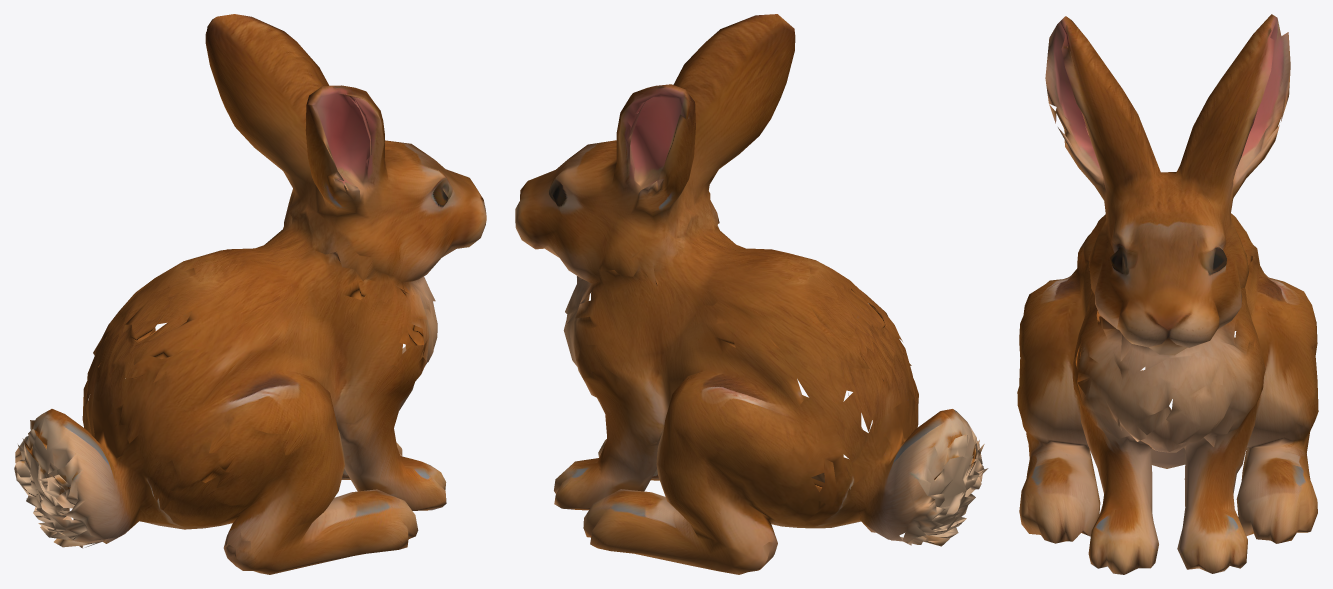
Rendered from Coelho.glb.
3 renders of one model, left to right at view 1: azimuth 30°, elevation 25°; view 2: azimuth 150°, elevation 25°; view 3: azimuth 270°, elevation 25°, orthographic. The views are drawn at different scales.
Parts seen in each view (by area): view 1: tripo_node_be37c74e-84cb-4a59-9c8c-7ba66549f473; view 2: tripo_node_be37c74e-84cb-4a59-9c8c-7ba66549f473; view 3: tripo_node_be37c74e-84cb-4a59-9c8c-7ba66549f473.
Part boxes in pixels (<box>): tripo_node_be37c74e-84cb-4a59-9c8c-7ba66549f473: <box>14,14,486,574</box>; tripo_node_be37c74e-84cb-4a59-9c8c-7ba66549f473: <box>515,14,988,574</box>; tripo_node_be37c74e-84cb-4a59-9c8c-7ba66549f473: <box>1017,14,1318,574</box>.
Size of the model in its own units: 0.9832 by 0.9778 by 0.5507.
1 material, 1 textured.
